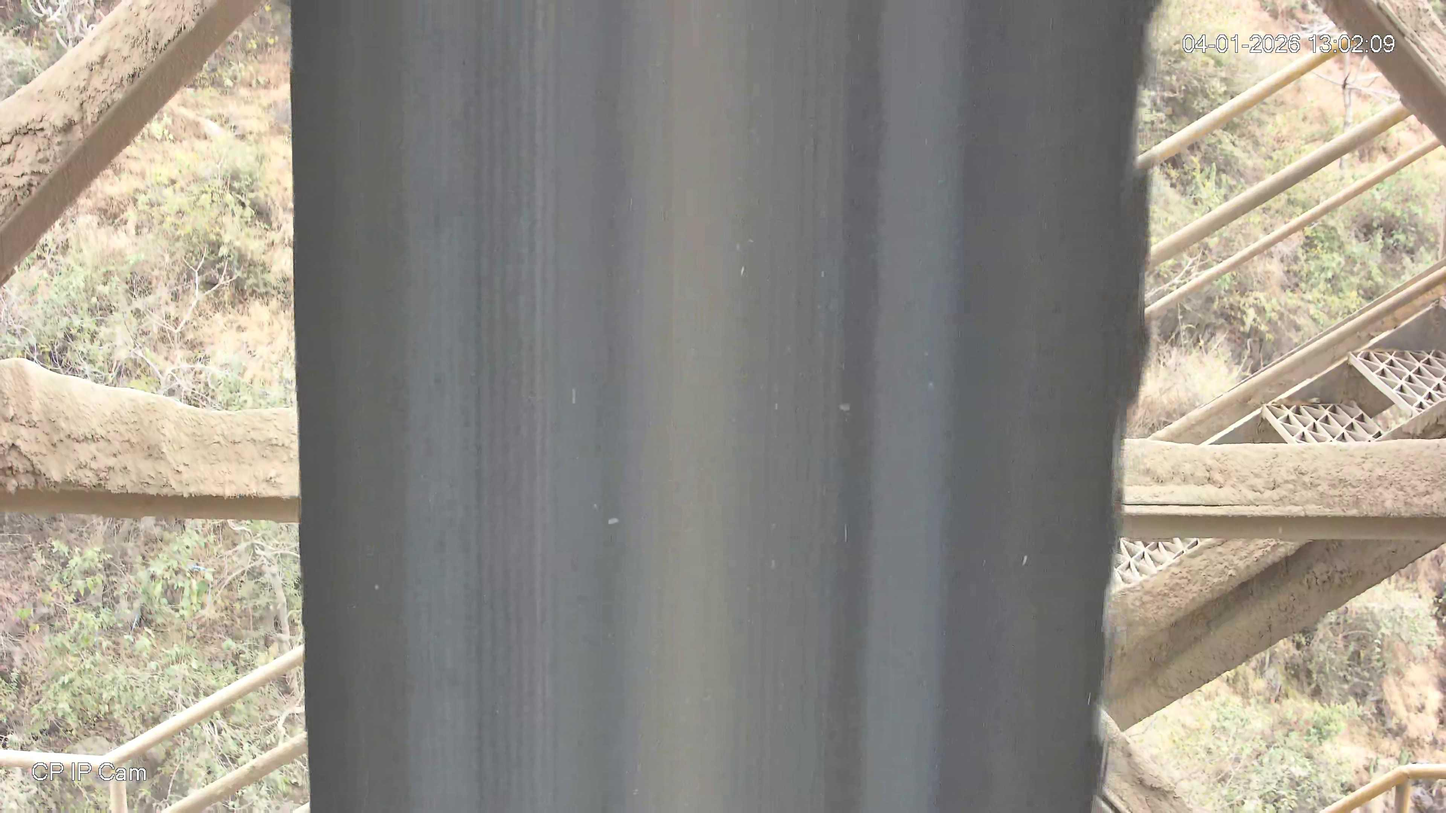belt_roi: (291, 0, 1163, 813)
